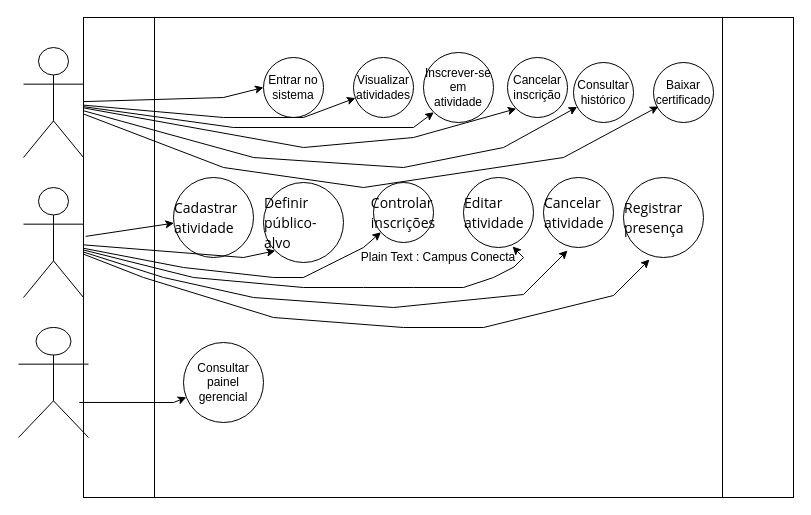
The diagram is 811 pixels wide and 515 high, and some of its shapes have lost their labels. The centre of each missing label's shape, as x and y in pixels:
Coordenação: point 53,382
Estudante: point 53,102
Organizador: point 53,242
